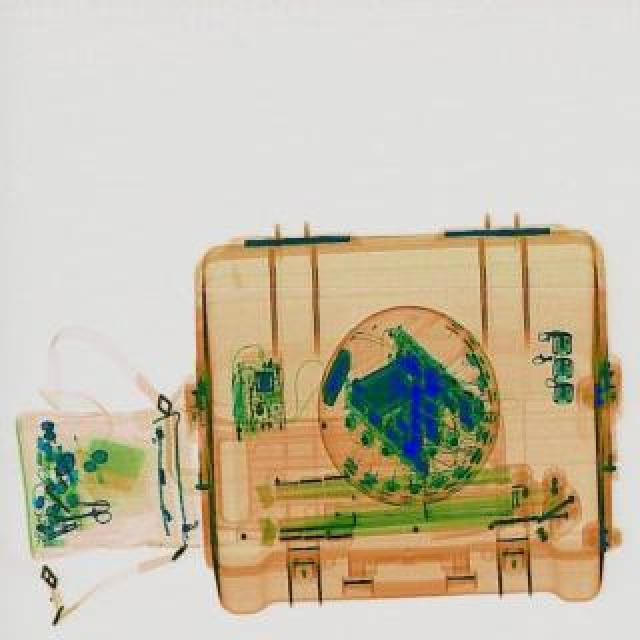pliers: (46, 498, 110, 532)
